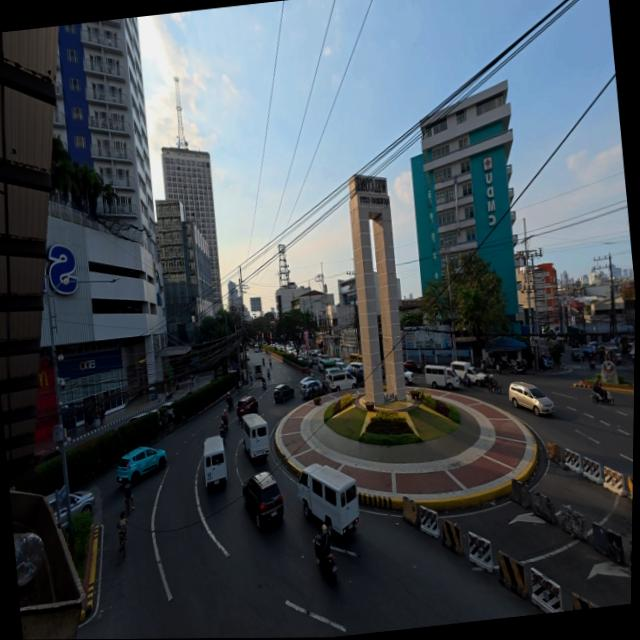car: (239, 468, 287, 532), (113, 442, 170, 487), (504, 379, 553, 421), (295, 373, 324, 398), (271, 382, 295, 404)
